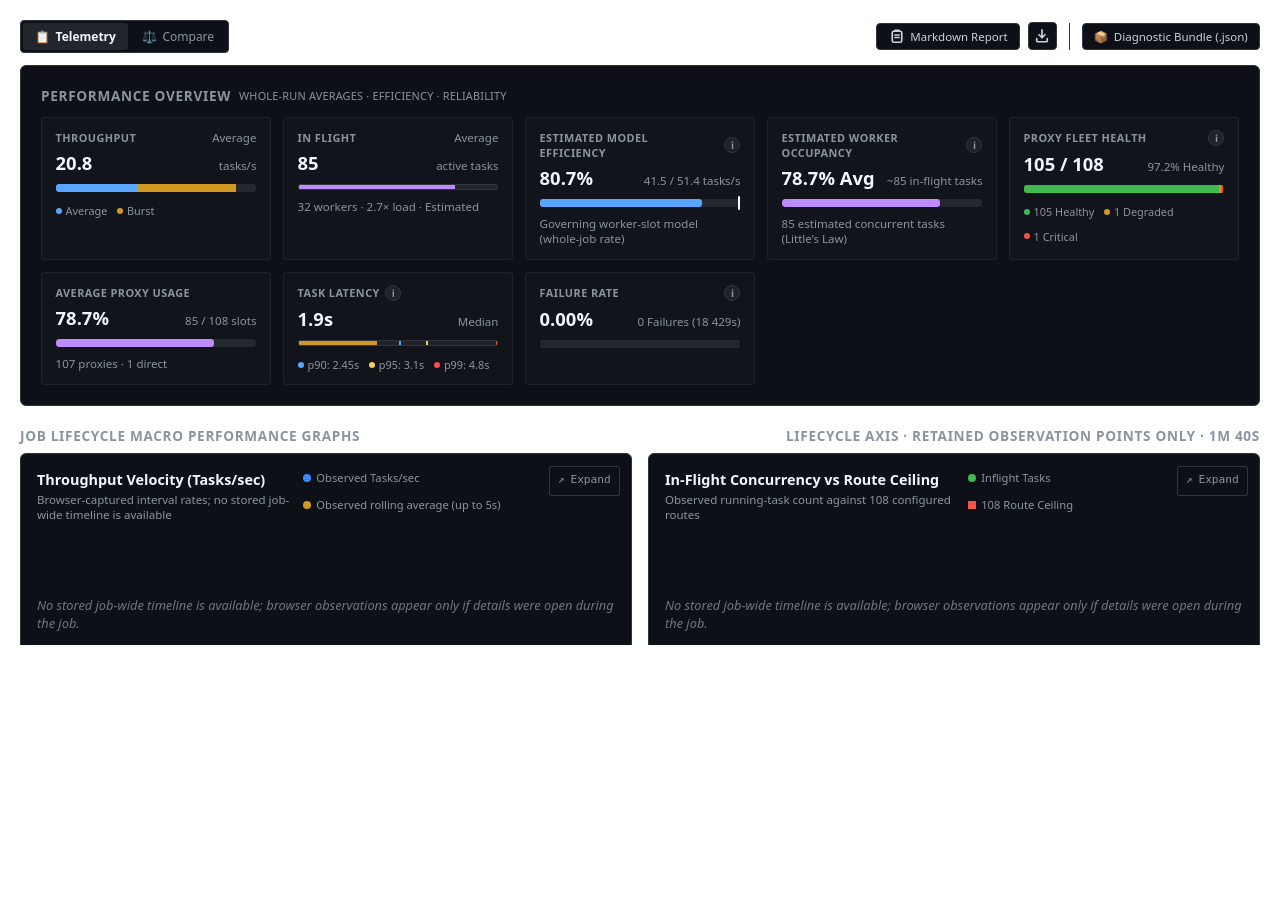
Test: JobDiagnosticsReport › compares against the fastest and slowest finished runs inside the task boundary
Step 1. Click the button "⚖️ Compare" → (178, 36), box [130,23,226,50]
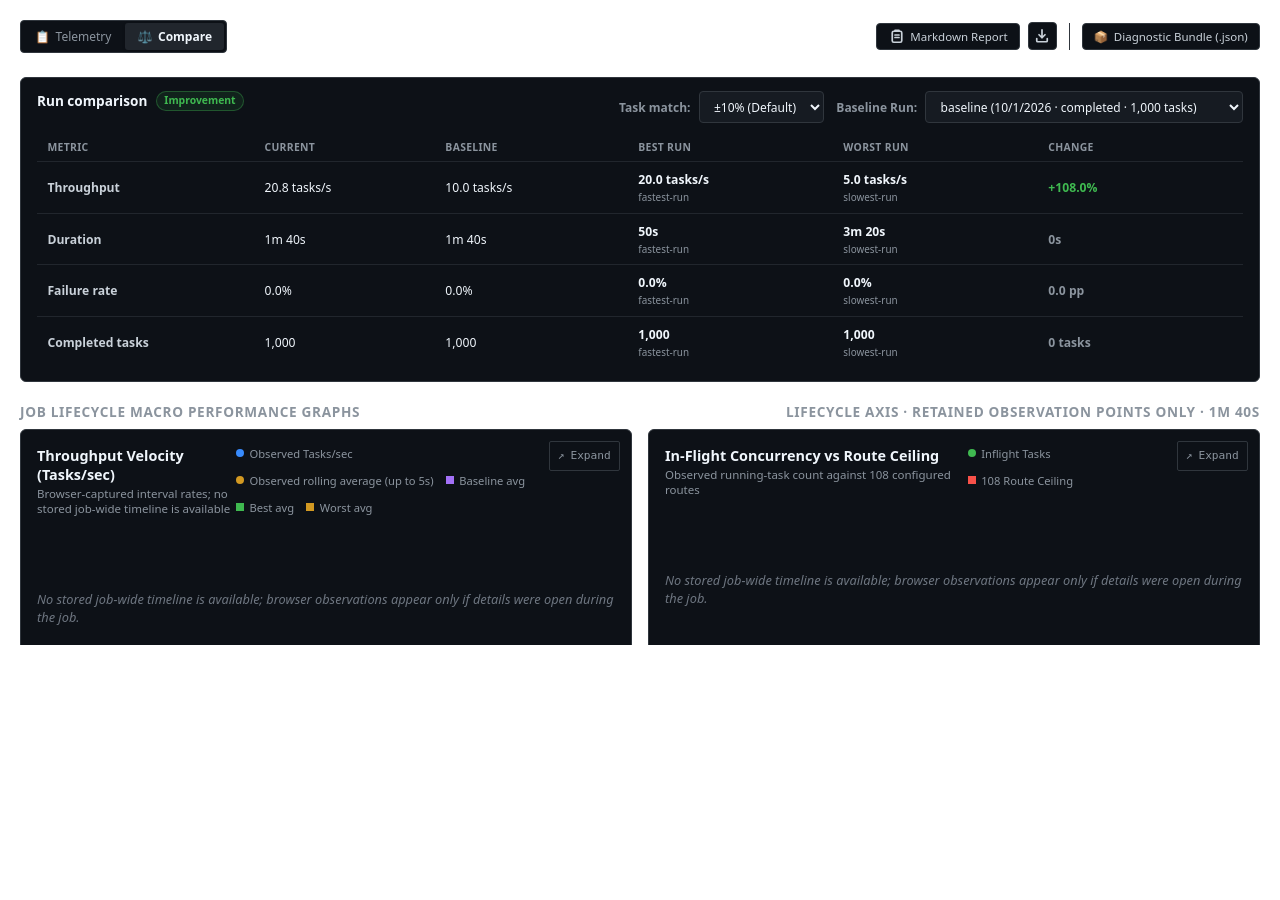
Now the row with test id "comparison-row-throughput" shows "20.0 tasks/s", box [638,171,709,188]
Now the row with test id "comparison-row-throughput" shows "fastest-run", box [638,190,689,204]
Now the row with test id "comparison-row-throughput" shows "5.0 tasks/s", box [843,171,907,188]
